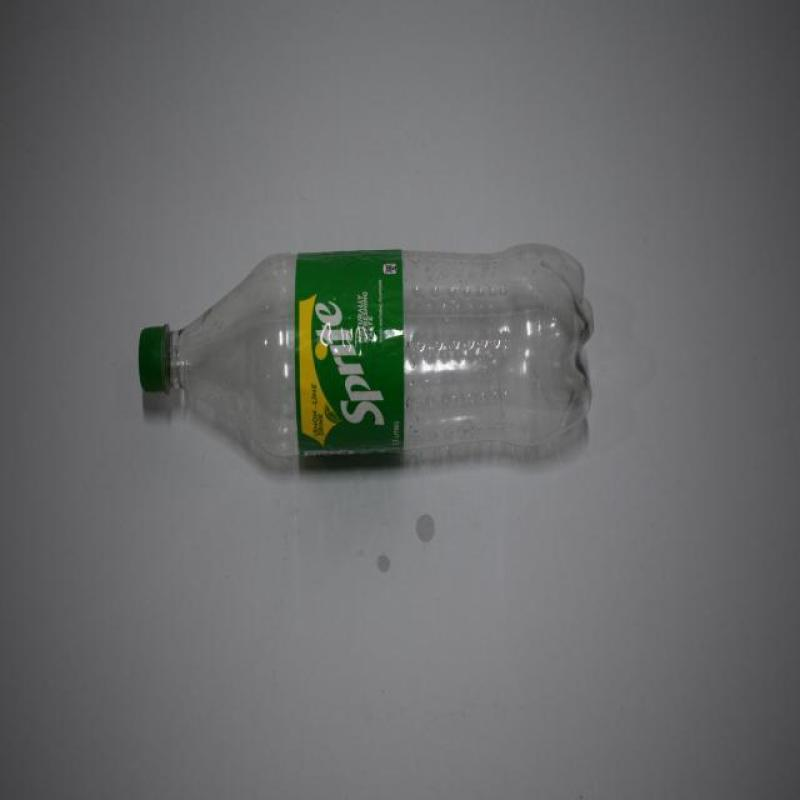botella: (140, 242, 596, 474)
